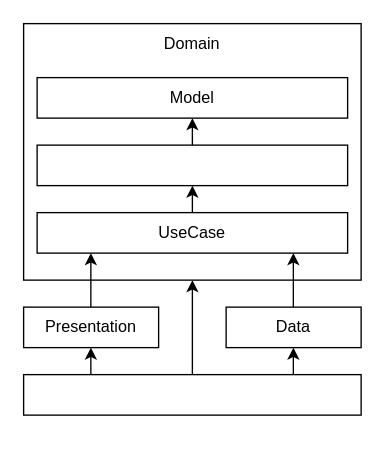
Image size: 385x450. Some labels were removed from this diagram. The box of each missing label's shape, as (x1, y1, x2, y2) in pixels:
Main: (22, 373, 361, 415)
Repository: (36, 144, 348, 186)
